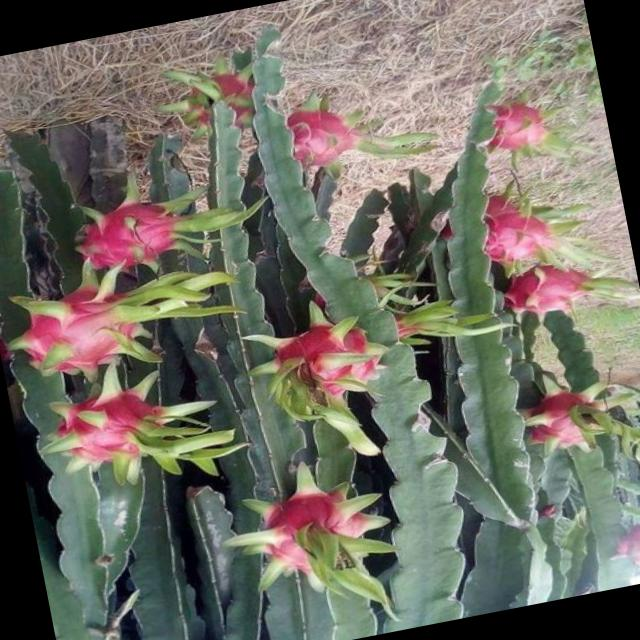Thanh Long: (0, 236, 248, 388), (34, 350, 252, 504), (242, 450, 413, 628), (250, 300, 406, 446), (46, 172, 252, 282), (282, 88, 437, 176), (492, 245, 640, 329), (510, 365, 625, 460), (468, 180, 572, 274), (453, 83, 564, 167), (160, 48, 265, 134), (605, 507, 640, 588), (624, 405, 640, 465)
